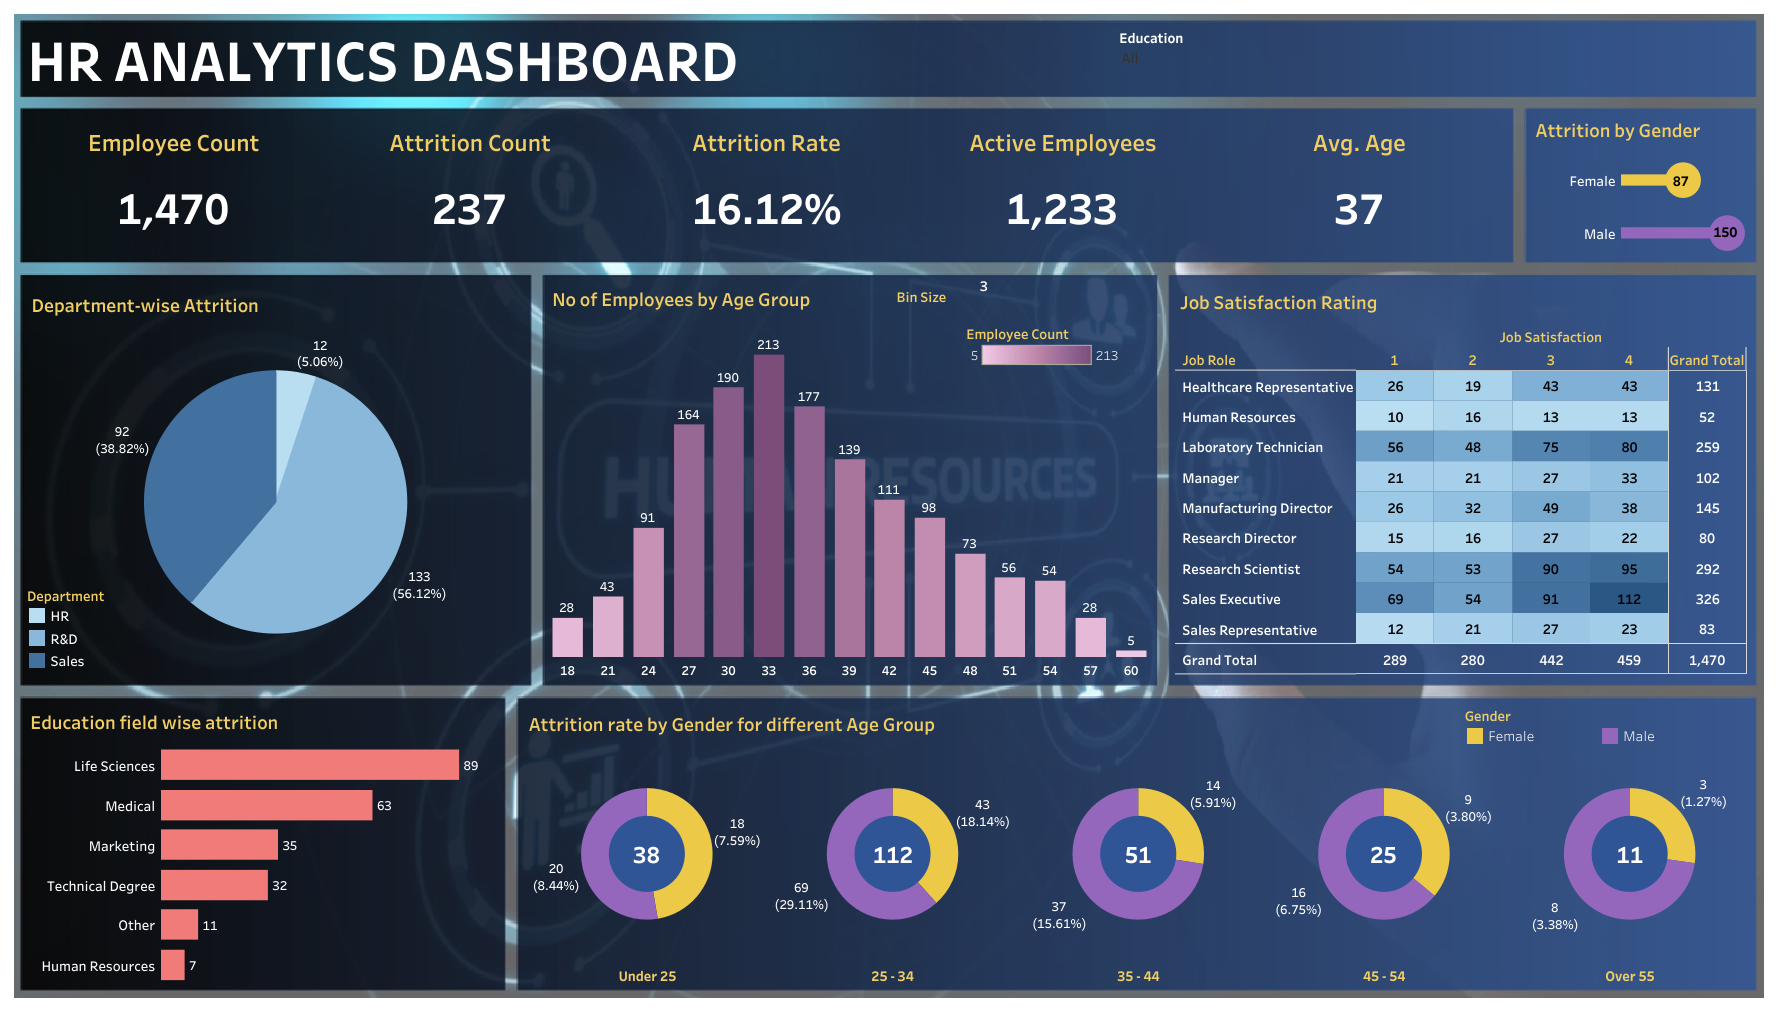

This screenshot's page, from the dashboard's own definition file:
{"tool":"tableau","page":{"name":"HR Analytics Dashboard","canvas":[1580,900],"ordinal":0},"visuals":[{"type":"image","param":"Image/HR background.pptx.png","box":[8,8,1564,884]},{"type":"text","box":[22,10,959,83]},{"type":"filter","title":"Department-wise Attrition","param":"[federated.1ed9uij1nv1d2e16noov11l934o3].[none:Education:nk]","box":[995,23,160,56]},{"type":"worksheet","title":"Attrition by Gender","mark":"Automatic","rows":["Gender"],"cols":["Calculation_307089228478267392","Calculation_307089228478267392"],"box":[1361,98,195,132]},{"type":"worksheet","title":"KPI","mark":"Automatic","box":[23,100,1317,128]},{"type":"parameter","param":"[Parameters].[Parameter 1]","box":[797,245,223,35]},{"type":"worksheet","title":"No of Employees by Age Group","mark":"Automatic","rows":["Employee Count"],"cols":["Age (bin)"],"box":[487,248,536,356]},{"type":"worksheet","title":"Job Satisfaction Rating","mark":"Square","rows":["Job Role"],"cols":["Job Satisfaction"],"box":[1045,251,508,349]},{"type":"worksheet","title":"Department-wise Attrition","mark":"Pie","box":[24,253,442,349]},{"type":"legend","title":"No of Employees by Age Group","param":"[federated.1ed9uij1nv1d2e16noov11l934o3].[sum:Employee Count:qk]","box":[859,283,140,88]},{"type":"legend","title":"Department-wise Attrition","param":"[federated.1ed9uij1nv1d2e16noov11l934o3].[none:Department:nk]","box":[23,518,91,85]},{"type":"worksheet","title":"Education field wise attrition","mark":"Automatic","rows":["Education Field"],"cols":["Calculation_307089228478267392"],"box":[23,624,421,251]},{"type":"worksheet","title":"Attrition rate by Gender for different Age Group","mark":"Pie","rows":["Calculation_307089228512940036","Calculation_307089228512940036"],"cols":["CF_age band"],"box":[466,626,1092,250]}]}

Visuals, with their boxes in screenshot pixels (x1, y1, x2, y2), scaled from the page's 1580x900 canvas onto the 1776x1011 screenshot:
image: 9:9:1767:1002
text: 25:11:1103:104
"Department-wise Attrition" filter: 1118:26:1298:89
"Attrition by Gender" worksheet: 1530:110:1749:258
"KPI" worksheet: 26:112:1506:256
parameter: 896:275:1147:315
"No of Employees by Age Group" worksheet: 547:279:1150:678
"Job Satisfaction Rating" worksheet (Square marks): 1175:282:1746:674
"Department-wise Attrition" worksheet (Pie marks): 27:284:524:676
"No of Employees by Age Group" legend: 966:318:1123:417
"Department-wise Attrition" legend: 26:582:128:677
"Education field wise attrition" worksheet: 26:701:499:983
"Attrition rate by Gender for different Age Group" worksheet (Pie marks): 524:703:1751:984
